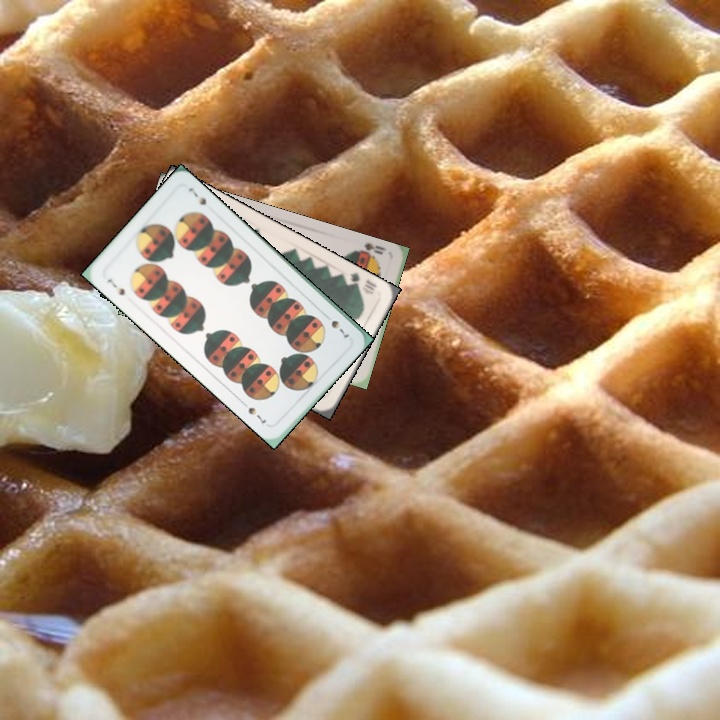G10: (345, 268, 380, 297)
S7: (320, 310, 352, 340), (103, 275, 128, 298)
SO: (349, 239, 389, 261)
